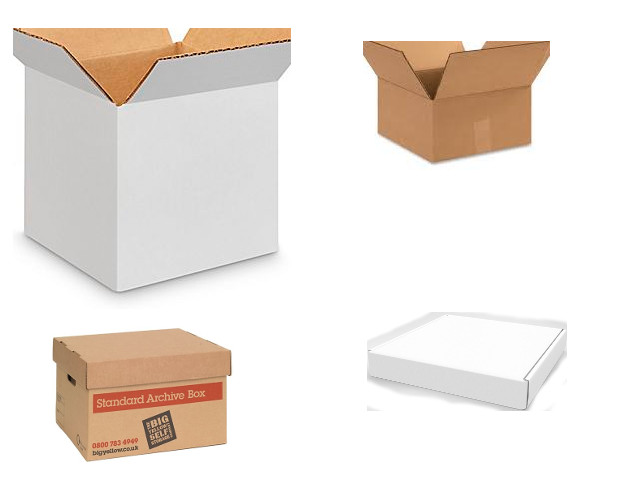cardboard: (26, 28, 280, 292), (55, 328, 233, 462), (379, 42, 533, 163), (372, 313, 563, 408)
